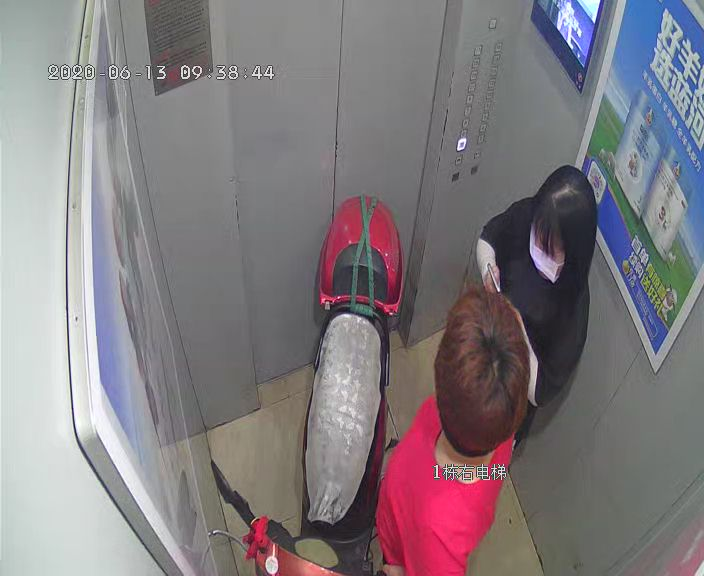Electric-bicycle: (207, 197, 402, 570)
